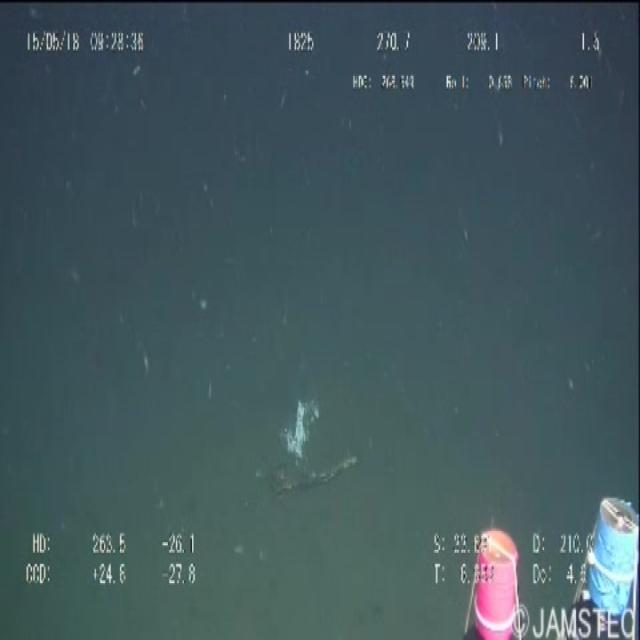Litter: (276, 400, 324, 467)
Wood: (250, 444, 368, 516)
